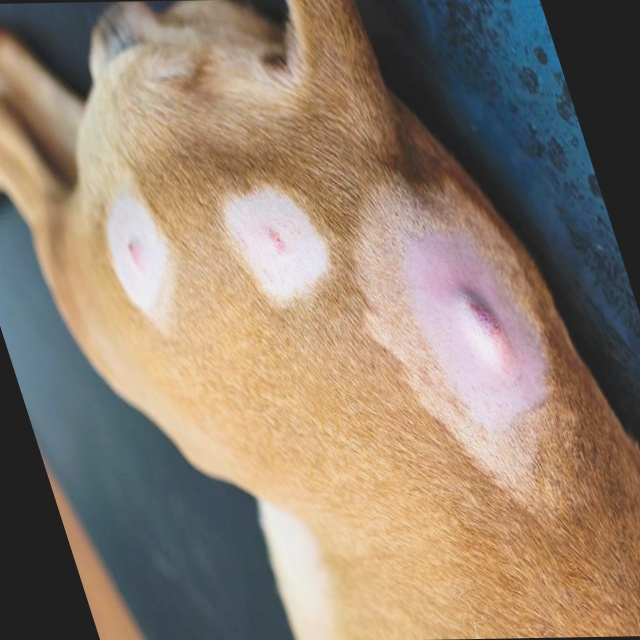lump_and_bump: (454, 292, 520, 375), (117, 240, 156, 272), (258, 227, 291, 252)
